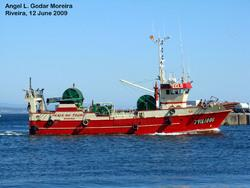otherboat: (19, 31, 232, 138)
